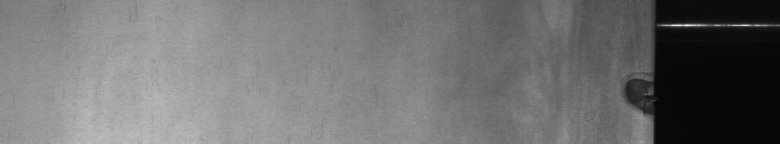hb: (615, 63, 644, 121)
